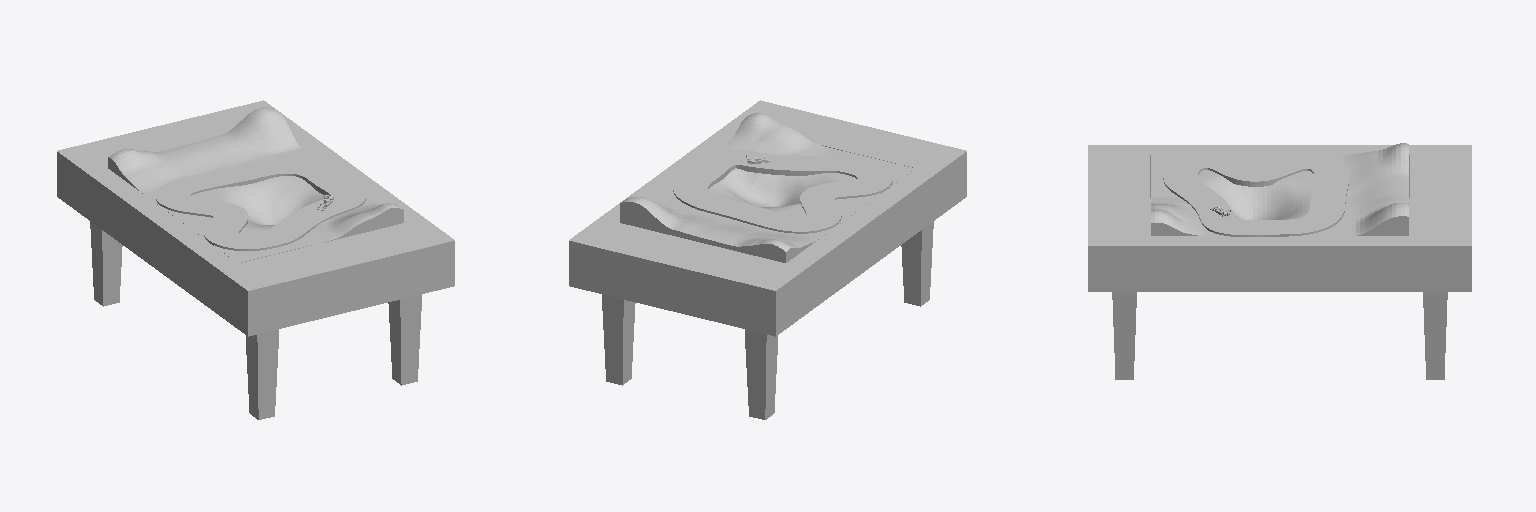
The model's file is NewestTisch37.obj.
The picture shows the model from 3 angles: view 1: azimuth 30°, elevation 25°; view 2: azimuth 150°, elevation 25°; view 3: azimuth 270°, elevation 25°; orthographic projection.
Visible parts, largest first — view 1: Tischplatte_wood_table_001, Landschaft_aerial_grass_rock, off, Bein1_wood_table_001, Bein4_wood_table_001.003, Bein3_wood_table_001.002; view 2: Tischplatte_wood_table_001, Landschaft_aerial_grass_rock, off, Bein2_wood_table_001.001, Bein3_wood_table_001.002, Bein4_wood_table_001.003; view 3: Tischplatte_wood_table_001, Landschaft_aerial_grass_rock, off, Bein1_wood_table_001, Bein2_wood_table_001.001.
Part boxes in pixels (left/top/right/bottom): Tischplatte_wood_table_001: left=57, top=100, right=454, bottom=336; Landschaft_aerial_grass_rock: left=108, top=107, right=403, bottom=262; off: left=156, top=159, right=365, bottom=250; Bein1_wood_table_001: left=388, top=294, right=421, bottom=385; Bein4_wood_table_001.003: left=246, top=329, right=278, bottom=419; Bein3_wood_table_001.002: left=90, top=221, right=122, bottom=306; Tischplatte_wood_table_001: left=569, top=100, right=966, bottom=336; Landschaft_aerial_grass_rock: left=620, top=113, right=915, bottom=262; off: left=673, top=150, right=892, bottom=233; Bein2_wood_table_001.001: left=602, top=294, right=635, bottom=385; Bein3_wood_table_001.002: left=745, top=329, right=777, bottom=419; Bein4_wood_table_001.003: left=901, top=221, right=933, bottom=306; Tischplatte_wood_table_001: left=1088, top=145, right=1471, bottom=291; Landschaft_aerial_grass_rock: left=1151, top=143, right=1408, bottom=235; off: left=1163, top=153, right=1348, bottom=236; Bein1_wood_table_001: left=1112, top=292, right=1136, bottom=379; Bein2_wood_table_001.001: left=1423, top=292, right=1447, bottom=379.
Size of the model in its own units: 5 by 3.91 by 8.